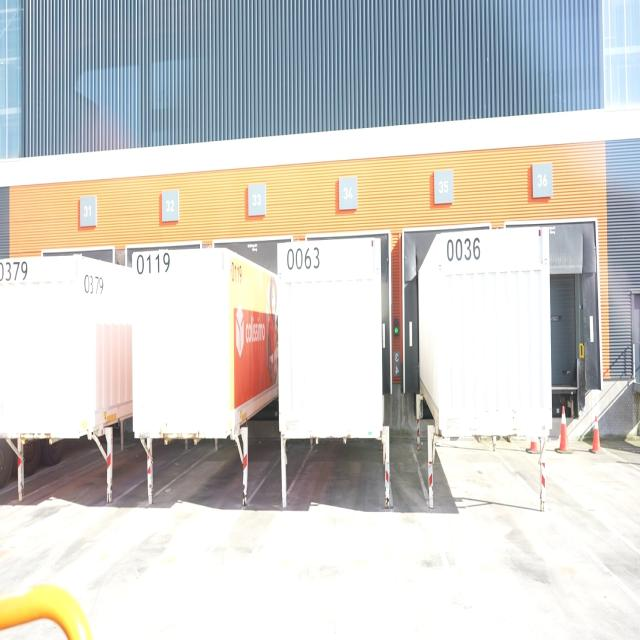Code: (440, 234, 484, 270), (285, 243, 324, 280), (131, 248, 173, 279), (76, 266, 107, 302)
